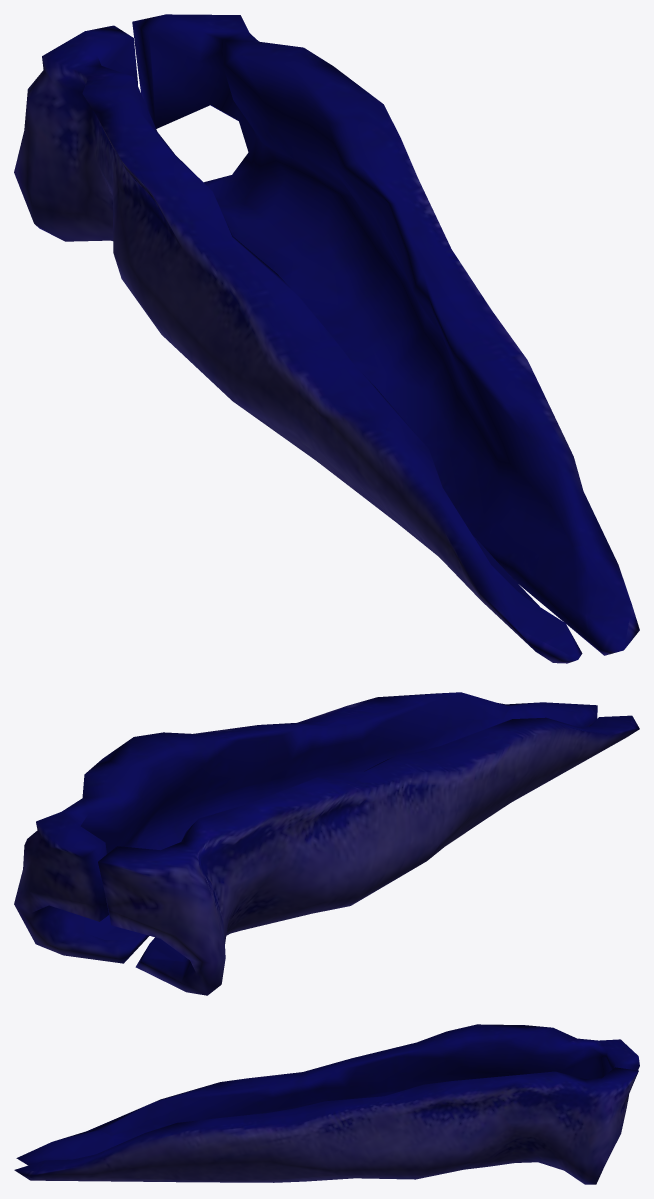
File: Ventral_Nasal_Concha.glb
3 renders of one model, top to bottom at view 1: azimuth 30°, elevation 25°; view 2: azimuth 150°, elevation 25°; view 3: azimuth 270°, elevation 25°, orthographic. The views are drawn at different scales.
Visible parts, largest first — view 1: ventral_nasal_concha.002; view 2: ventral_nasal_concha.002; view 3: ventral_nasal_concha.002.
Part boxes in pixels (x1=…): ventral_nasal_concha.002: x1=14, y1=14, x2=639, y2=663; ventral_nasal_concha.002: x1=14, y1=692, x2=639, y2=995; ventral_nasal_concha.002: x1=14, y1=1024, x2=639, y2=1184.
Bounding box in the file's own units: 0.0923 × 0.0784 × 0.322.
1 material, 1 textured.
